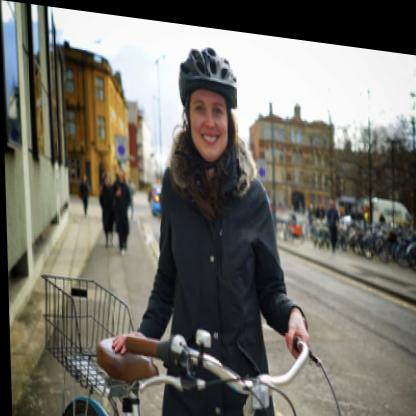With Helmet: (167, 38, 250, 158)
